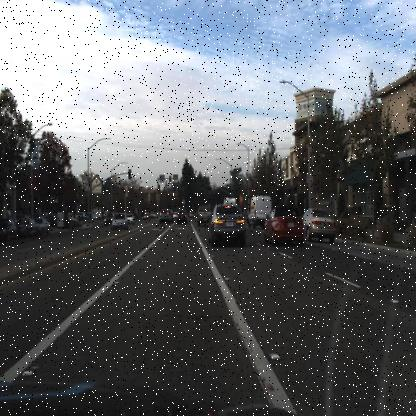car: (207, 203, 246, 249), (262, 206, 302, 245), (297, 208, 336, 244), (245, 191, 273, 232), (15, 212, 39, 239), (15, 218, 38, 241), (197, 204, 215, 228), (0, 214, 15, 242), (35, 212, 52, 235), (174, 204, 190, 228), (110, 212, 130, 231), (158, 204, 173, 228), (33, 216, 50, 236), (110, 212, 126, 232)
truck: (247, 194, 271, 230)
